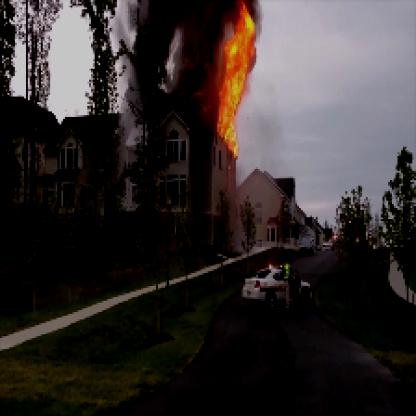Fire: (204, 2, 262, 160)
Smoke: (124, 2, 223, 117)
